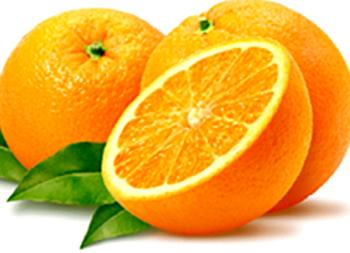orange: (97, 40, 311, 239), (1, 9, 152, 190)
